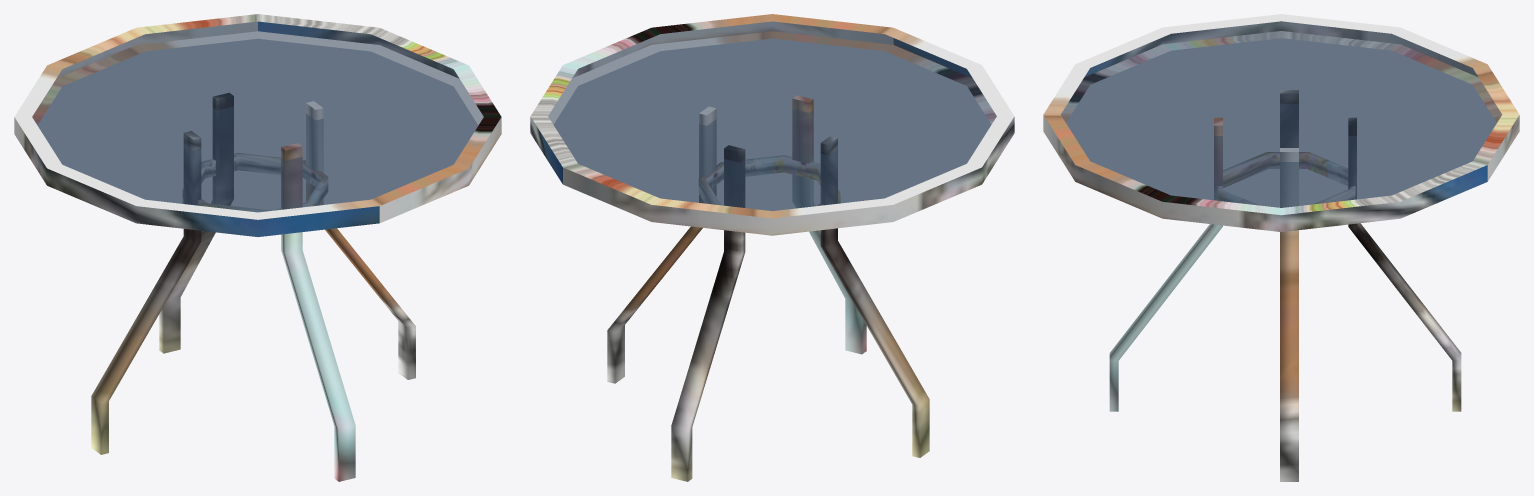
Rendered from glass_table.FBX.
3 views of the same model, side by side, from view 1: azimuth 30°, elevation 25°; view 2: azimuth 150°, elevation 25°; view 3: azimuth 270°, elevation 25° (orthographic). The views are drawn at different scales.
Visible parts, largest first — view 1: patio_table; view 2: patio_table; view 3: patio_table.
Part boxes in pixels (x1,y1,x2,y2): patio_table: (14, 14, 501, 481); patio_table: (530, 14, 1014, 481); patio_table: (1043, 14, 1519, 481).
Size of the model in its own units: 125 by 84.8 by 125.
